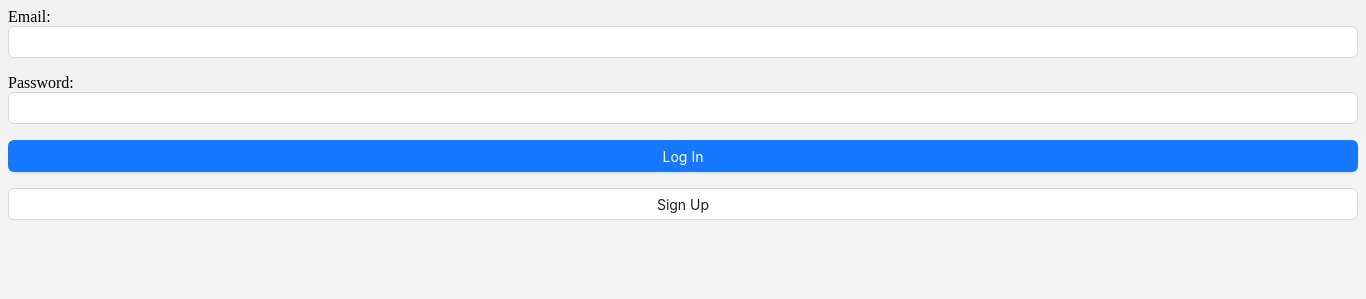
Scenario: SignIn Component › should go to sign up page when sign up button is clicked
Click the button with aria-label "signUp" at (683, 204), box [8,188,1358,220]
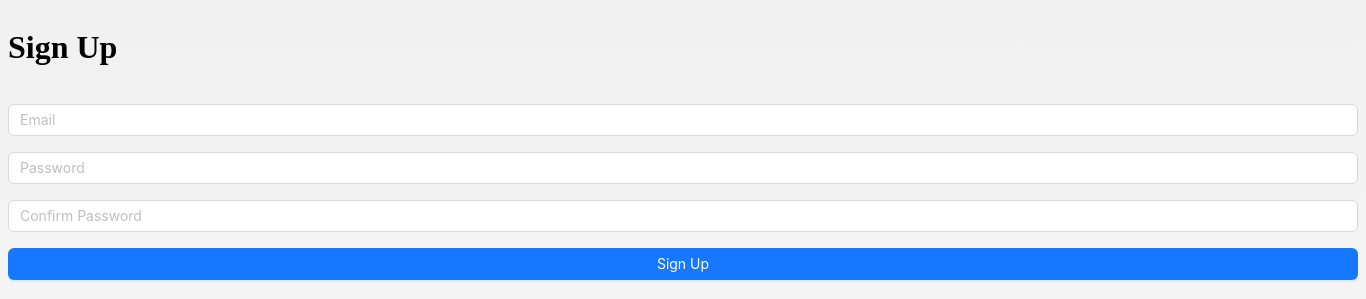
Result: the heading "Sign Up" is shown at [8,29,117,65]
